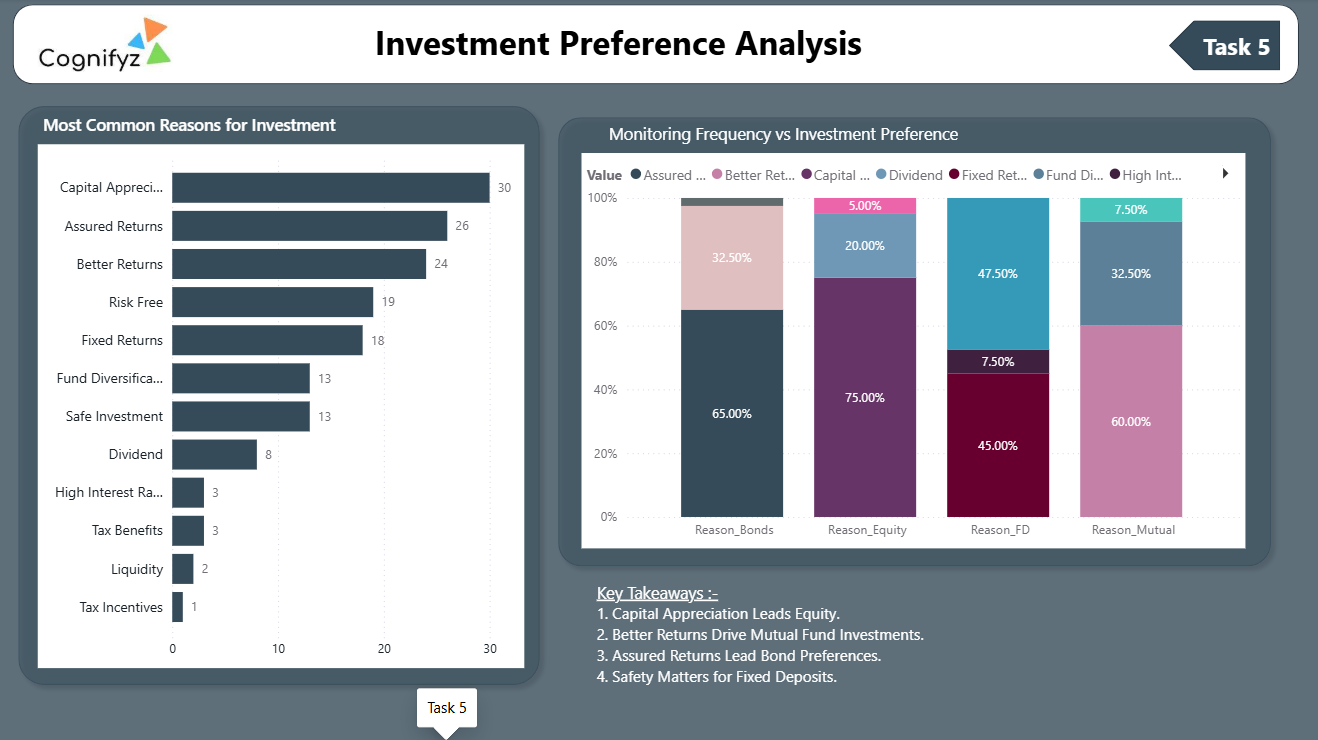

The dashboard page shown, as its layout file describes it:
{"tool":"powerbi","page":{"name":" Task 5","canvas":[1280,720],"ordinal":4},"visuals":[{"type":"shape","box":[535.7,106.2,705.8,451.2],"z":0},{"type":"shape","box":[14.5,95.3,521.2,576.7],"z":1000},{"type":"shape","box":[18.1,6,1241.4,77.2],"z":2000},{"type":"textbox","box":[307.6,15.7,589.9,59.1],"z":3000},{"type":"image","box":[42.2,9.7,130.3,70],"z":4000},{"type":"shape","box":[1134.1,21.7,107.4,48.3],"z":5000},{"type":"textbox","box":[42.6,106.6,357.4,35.1],"z":6000},{"type":"clusteredBarChart","fields":{"Category":["reason_analysis.Value"],"Y":["Measure.Reason Count"]},"box":[42.2,141.2,469.3,505.5],"z":7000},{"type":"hundredPercentStackedColumnChart","fields":{"Category":["reason_analysis.Attribute"],"Series":["reason_analysis.Value"],"Y":["Measure.Reason Count"]},"box":[567,149.6,640.6,381.2],"z":8000},{"type":"textbox","box":[583.9,114.6,541.7,35],"z":9000},{"type":"textbox","box":[576.7,557.4,444,114.6],"z":10000}]}

Visuals, with their boxes in screenshot pixels (x1, y1, x2, y2), scaled from the page's 1280x720 canvas onto the 1318x740 screenshot:
shape: locate(552, 109, 1278, 573)
shape: locate(15, 98, 552, 691)
shape: locate(19, 6, 1297, 86)
textbox: locate(317, 16, 924, 77)
image: locate(43, 10, 178, 82)
shape: locate(1168, 22, 1278, 72)
textbox: locate(44, 110, 412, 146)
clusteredBarChart - reason_analysis.Value x Measure.Reason Count: locate(43, 145, 527, 665)
hundredPercentStackedColumnChart - reason_analysis.Attribute x reason_analysis.Value: locate(584, 154, 1243, 546)
textbox: locate(601, 118, 1159, 154)
textbox: locate(594, 573, 1051, 691)
